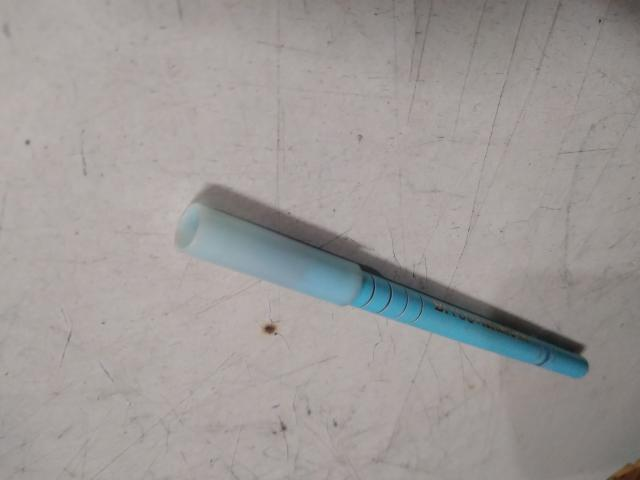PEN: (38, 90, 476, 290)
